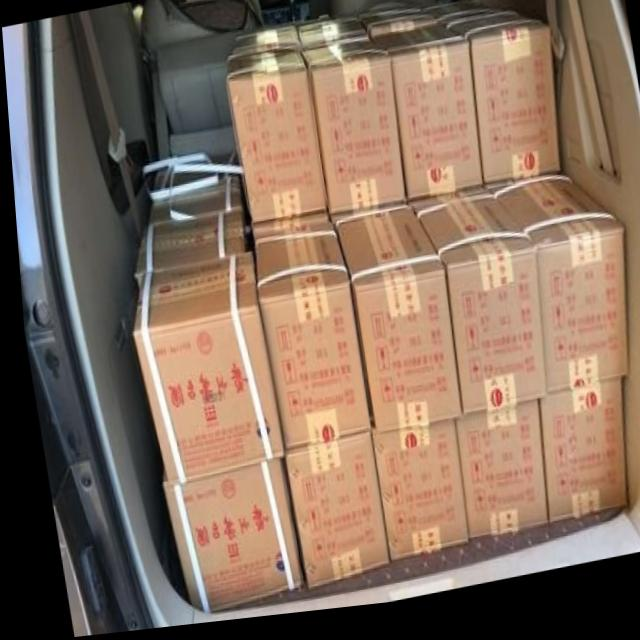box: (127, 258, 276, 489), (479, 183, 622, 408), (404, 195, 540, 425), (330, 208, 454, 441), (251, 228, 364, 454), (435, 19, 557, 195), (155, 464, 293, 617), (369, 32, 477, 206), (300, 43, 401, 221), (226, 54, 324, 225), (276, 439, 380, 593), (364, 428, 460, 566), (445, 413, 540, 548), (533, 394, 617, 534), (130, 211, 241, 280), (138, 184, 238, 228), (148, 154, 236, 196), (354, 11, 436, 45), (295, 19, 368, 56), (226, 29, 301, 63), (421, 6, 504, 31)
